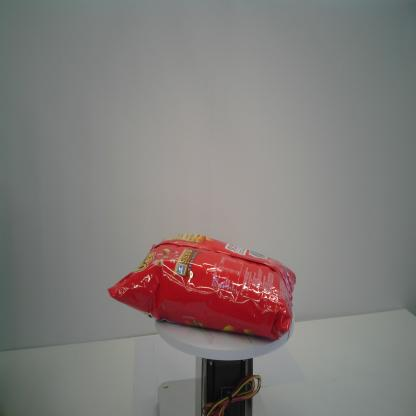Puffed Food: (105, 233, 298, 342)
